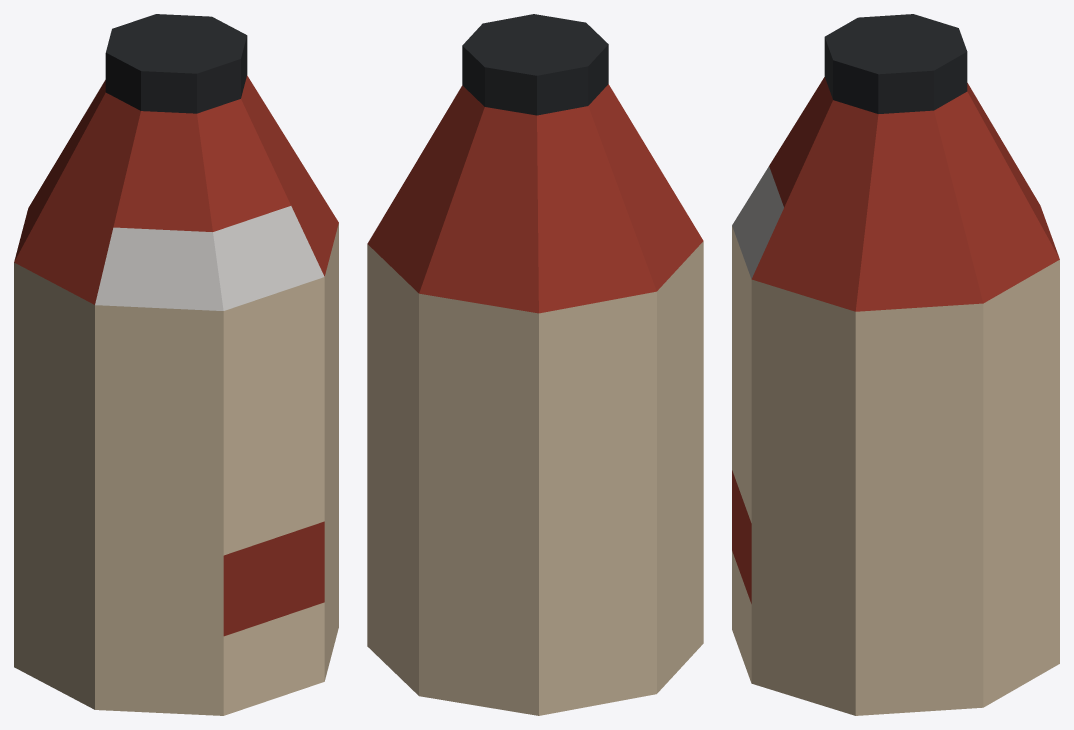
Rendered from SM_Prop_Drink_09.fbx.
3 renders of one model, left to right at view 1: azimuth 30°, elevation 25°; view 2: azimuth 150°, elevation 25°; view 3: azimuth 270°, elevation 25°, orthographic.
Visible parts, largest first — view 1: SM_Prop_Drink_09; view 2: SM_Prop_Drink_09; view 3: SM_Prop_Drink_09.
Part boxes in pixels (bbox=[...]): SM_Prop_Drink_09: bbox=[14, 14, 338, 715]; SM_Prop_Drink_09: bbox=[367, 14, 703, 715]; SM_Prop_Drink_09: bbox=[732, 14, 1059, 715].
Bounding box in the file's own units: 11.88 × 24.07 × 11.88.
